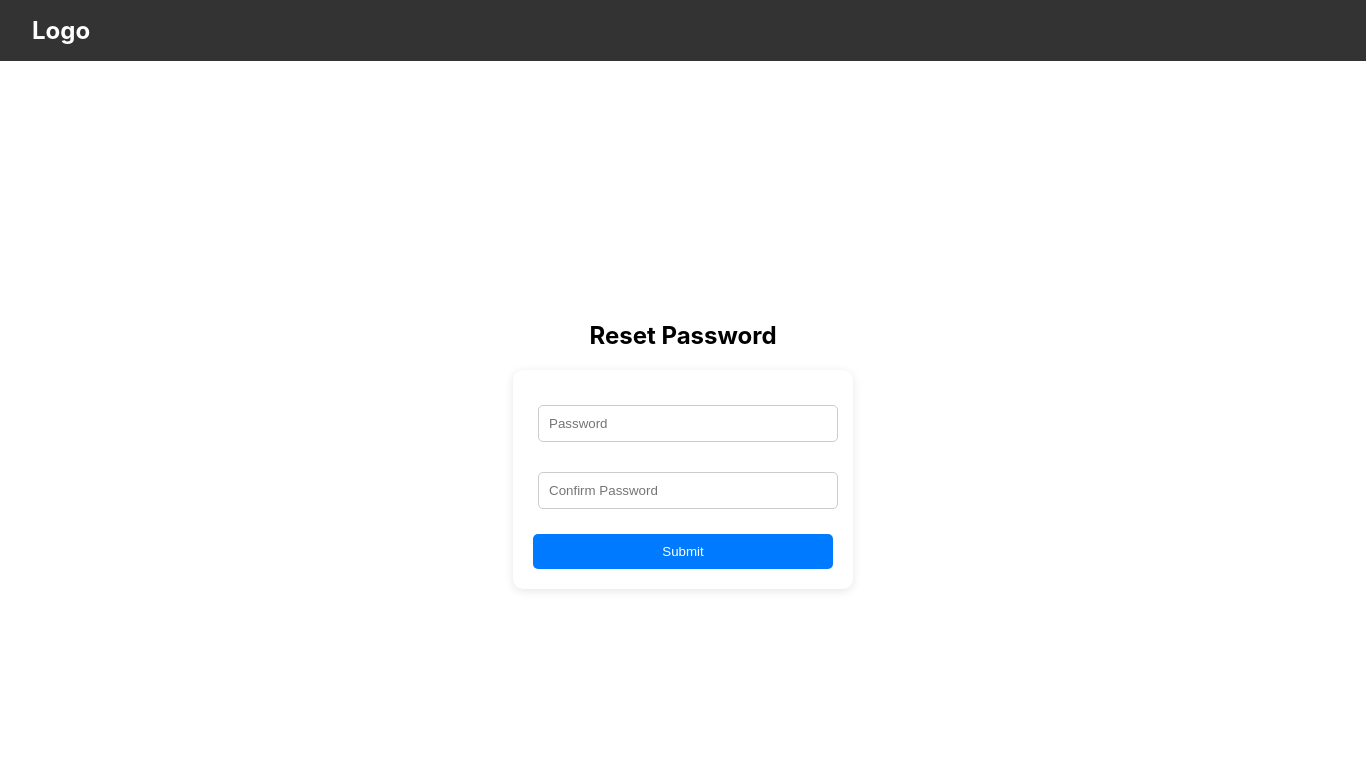
Test case: ResetPassword › shows error messages on invalid submit in reset password process
Click the button "Submit" at (683, 551), box [533,534,833,569]
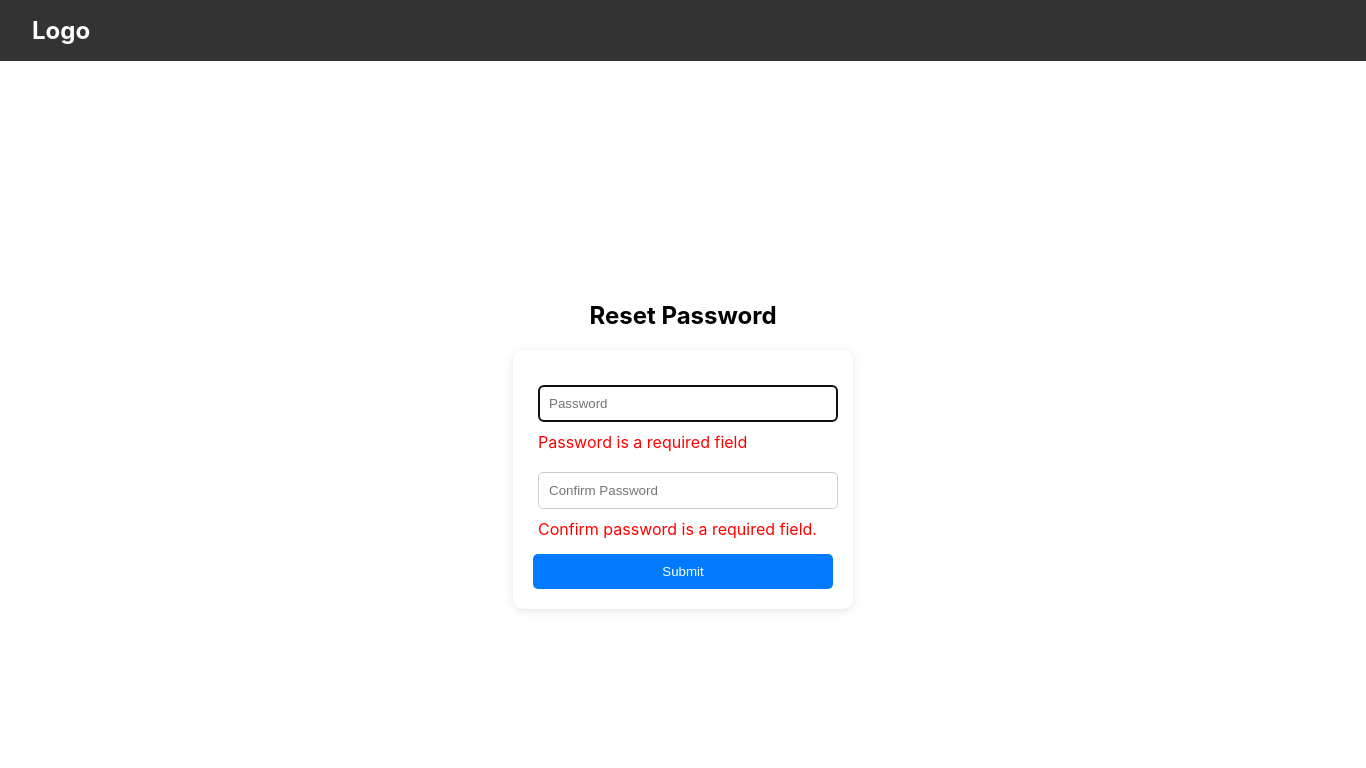
Expected: the text "Password is a required field" is shown, [538,432,747,452]
Expected: the text "Confirm password is a required field." is shown, [538,519,838,539]
